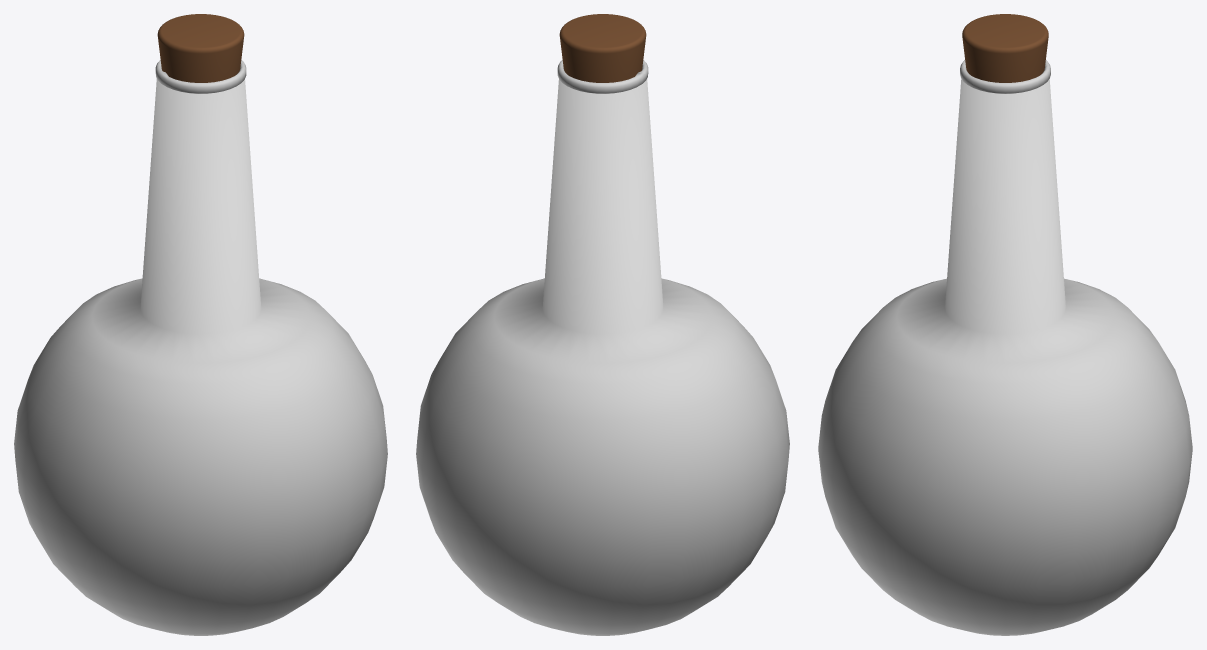
Rendered from potionmana.fbx.
The picture shows the model from 3 angles, left to right: view 1: azimuth 30°, elevation 25°; view 2: azimuth 150°, elevation 25°; view 3: azimuth 270°, elevation 25°; orthographic projection.
Parts seen in each view (by area): view 1: Normal_mana_potion, nm_cork; view 2: Normal_mana_potion, nm_cork; view 3: Normal_mana_potion, nm_cork.
Part boxes in pixels (left/top/right/bottom): Normal_mana_potion: left=14, top=59, right=387, bottom=635; nm_cork: left=157, top=14, right=244, bottom=82; Normal_mana_potion: left=416, top=59, right=789, bottom=635; nm_cork: left=559, top=14, right=646, bottom=82; Normal_mana_potion: left=818, top=60, right=1192, bottom=635; nm_cork: left=962, top=14, right=1048, bottom=82.
Bounding box in the file's own units: 55.73 × 96.46 × 55.73.
